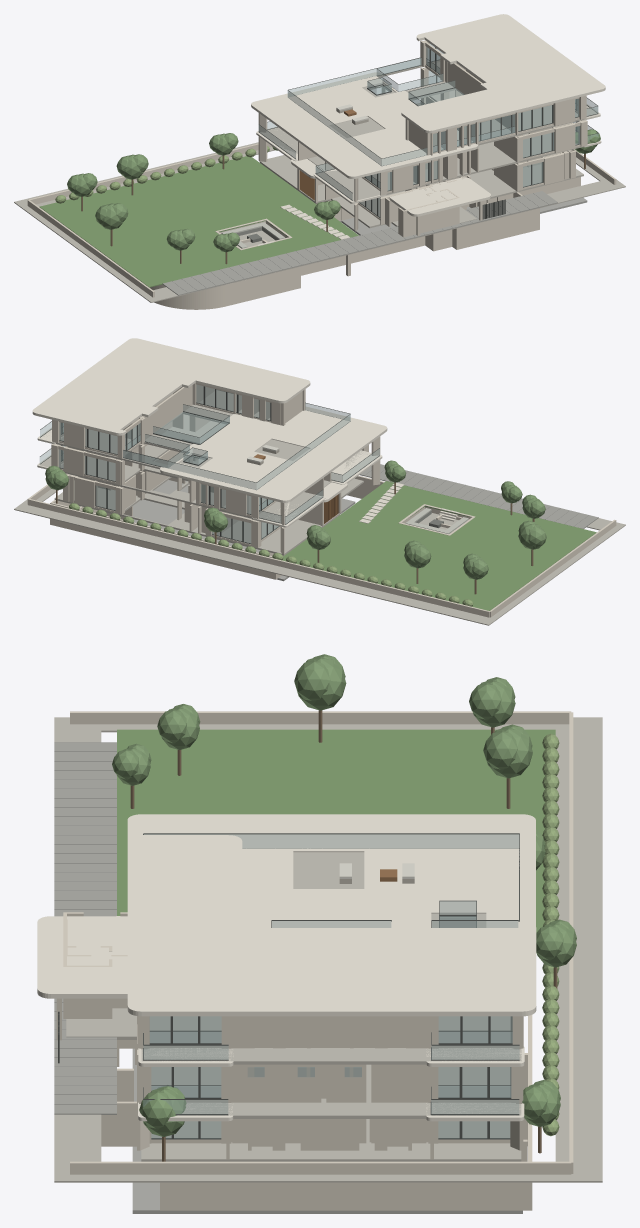
The model's file is Ashwavilla-v2.glb.
3 views of the same model, one above another, from view 1: azimuth 30°, elevation 25°; view 2: azimuth 150°, elevation 25°; view 3: azimuth 270°, elevation 25° (orthographic). The views are drawn at different scales.
Parts seen in each view (by area): view 1: site/site-landscape-material-batch-37, second/second-roof-material-batch-27, first/first-roof-material-batch-23, basement/source-walls-basement, site/site-site-material-batch-39, first/source-walls-first, site/site-landscape-material-batch-48, ground/source-walls-ground, site/site-site-material-batch-38, second/second-railing-material-batch-22, first/plan-floorplate-first, ground/plan-floorplate-ground (+18 smaller); view 2: site/site-landscape-material-batch-37, second/second-roof-material-batch-27, first/first-roof-material-batch-23, site/site-site-material-batch-38, site/site-site-material-batch-41, site/site-landscape-material-batch-48, first/plan-floorplate-first, second/second-railing-material-batch-22, first/source-walls-first, ground/plan-floorplate-ground, second/plan-floorplate-second, ground/source-walls-ground (+18 smaller); view 3: second/second-roof-material-batch-27, site/site-landscape-material-batch-37, first/first-roof-material-batch-23, site/site-site-material-batch-38, site/site-site-material-batch-39, site/site-site-material-batch-41, basement/source-walls-basement, site/site-landscape-material-batch-48, second/plan-floorplate-second, second/second-railing-material-batch-22, ground/plan-floorplate-ground, first/plan-floorplate-first (+19 smaller).
Boxes of the visible parts, box(x1,y1,x2,y2) form: site/site-landscape-material-batch-37: box(39, 156, 358, 287); second/second-roof-material-batch-27: box(401, 14, 605, 133); first/first-roof-material-batch-23: box(251, 72, 478, 178); basement/source-walls-basement: box(150, 177, 580, 309); site/site-site-material-batch-39: box(162, 191, 557, 295); first/source-walls-first: box(258, 68, 586, 201); site/site-landscape-material-batch-48: box(67, 129, 600, 252); ground/source-walls-ground: box(258, 97, 575, 237); site/site-site-material-batch-38: box(14, 103, 625, 302); second/second-railing-material-batch-22: box(287, 58, 598, 165); first/plan-floorplate-first: box(260, 90, 589, 201); ground/plan-floorplate-ground: box(259, 155, 583, 228); site/site-landscape-material-batch-37: box(282, 481, 596, 610); second/second-roof-material-batch-27: box(32, 338, 310, 435); first/first-roof-material-batch-23: box(160, 406, 387, 502); site/site-site-material-batch-38: box(14, 489, 625, 625); site/site-site-material-batch-41: box(27, 473, 616, 617); site/site-landscape-material-batch-48: box(45, 460, 546, 579); first/plan-floorplate-first: box(40, 414, 367, 524); second/second-railing-material-batch-22: box(40, 403, 350, 489); first/source-walls-first: box(52, 414, 380, 525); ground/plan-floorplate-ground: box(54, 459, 363, 555); second/plan-floorplate-second: box(40, 390, 309, 469); ground/source-walls-ground: box(63, 443, 380, 554); second/second-roof-material-batch-27: box(127, 835, 536, 1016); site/site-landscape-material-batch-37: box(117, 729, 555, 932); first/first-roof-material-batch-23: box(127, 814, 535, 927); site/site-site-material-batch-38: box(54, 717, 602, 1182); site/site-site-material-batch-39: box(54, 742, 116, 1114); site/site-site-material-batch-41: box(70, 711, 573, 1174); basement/source-walls-basement: box(101, 1015, 532, 1210); site/site-landscape-material-batch-48: box(112, 654, 576, 1136); second/plan-floorplate-second: box(141, 852, 521, 1064); second/second-railing-material-batch-22: box(143, 834, 519, 1059); ground/plan-floorplate-ground: box(66, 1008, 521, 1161); first/plan-floorplate-first: box(141, 1064, 521, 1118).
Size of the model in its own units: 70.08 by 15.59 by 36.07.
